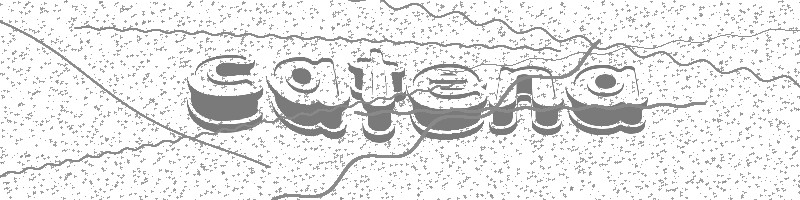a: (266, 53, 349, 140), (564, 62, 649, 138)
c: (184, 50, 266, 133)
e: (407, 62, 486, 140)
n: (488, 61, 565, 137)
t: (347, 46, 407, 141)
